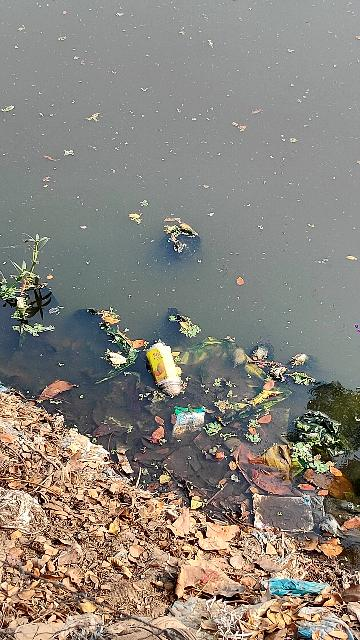bottle: (145, 344, 188, 396)
